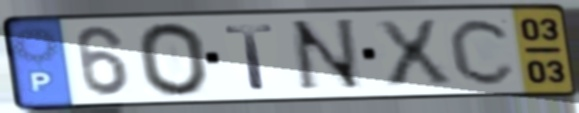6: (73, 24, 134, 99)
C: (446, 15, 520, 88)
N: (287, 16, 368, 95)
O: (133, 20, 214, 100)
T: (220, 22, 279, 92)
X: (370, 16, 457, 90)
